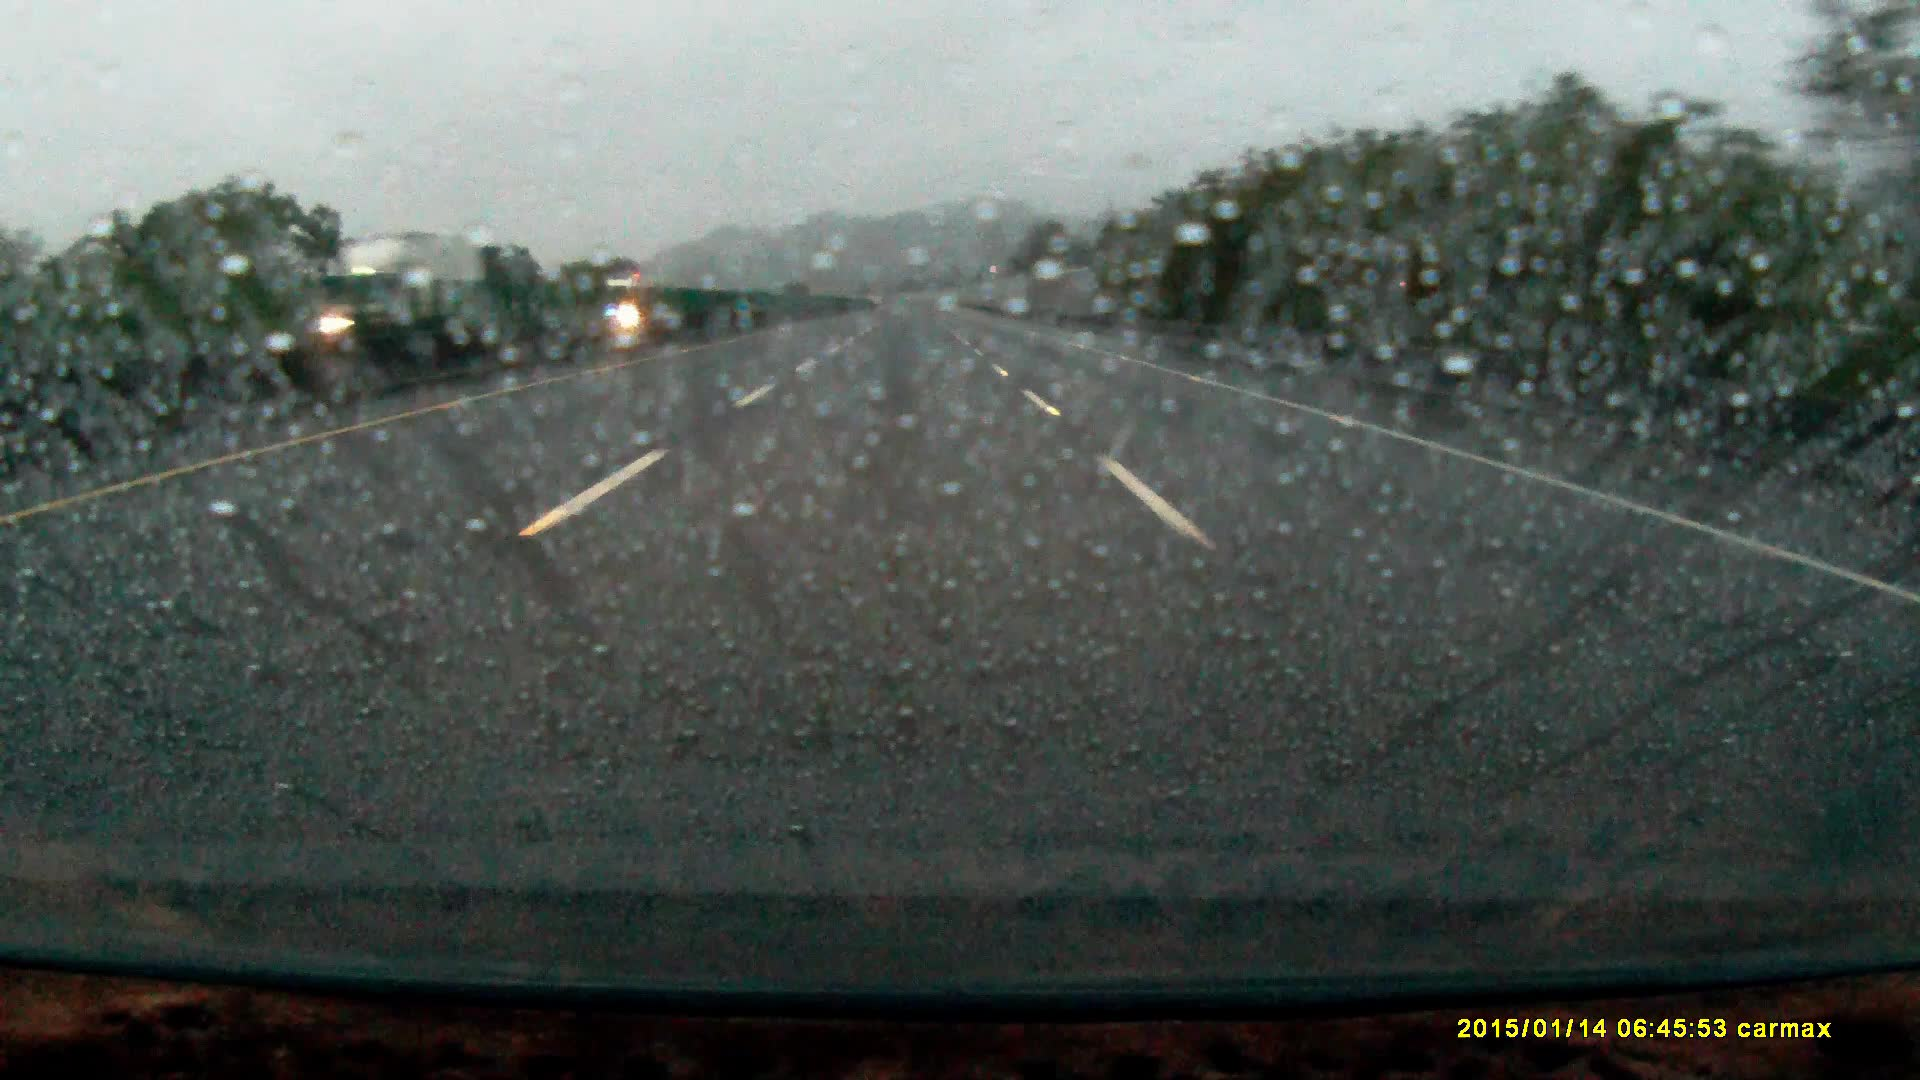vehicle: (310, 229, 502, 368), (603, 274, 661, 318)
